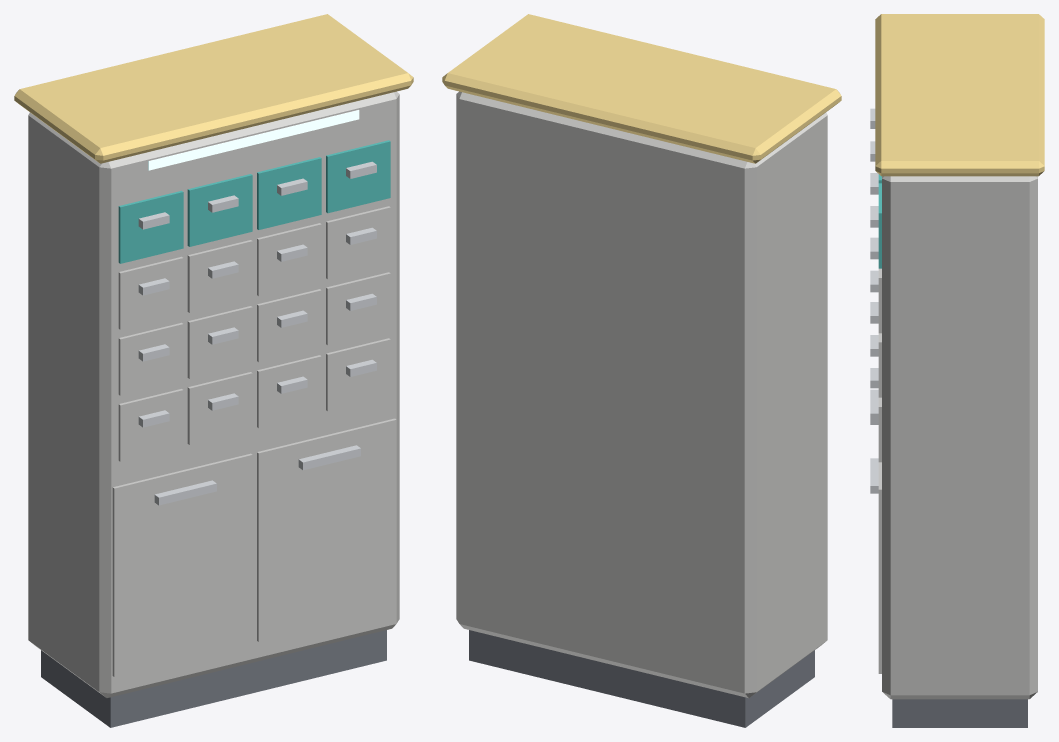
Rendered from medical-23619.glb.
3 views of the same model, side by side, from view 1: azimuth 30°, elevation 25°; view 2: azimuth 150°, elevation 25°; view 3: azimuth 270°, elevation 25° (orthographic). The views are drawn at different scales.
Parts seen in each view (by area): view 1: dispensing-cabinet; view 2: dispensing-cabinet; view 3: dispensing-cabinet.
Boxes of the visible parts, <box> form: dispensing-cabinet: <box>14,14,413,727</box>; dispensing-cabinet: <box>442,14,841,727</box>; dispensing-cabinet: <box>870,14,1044,727</box>.
Bounding box in the file's own units: 1.06 × 1.87 × 0.515.
